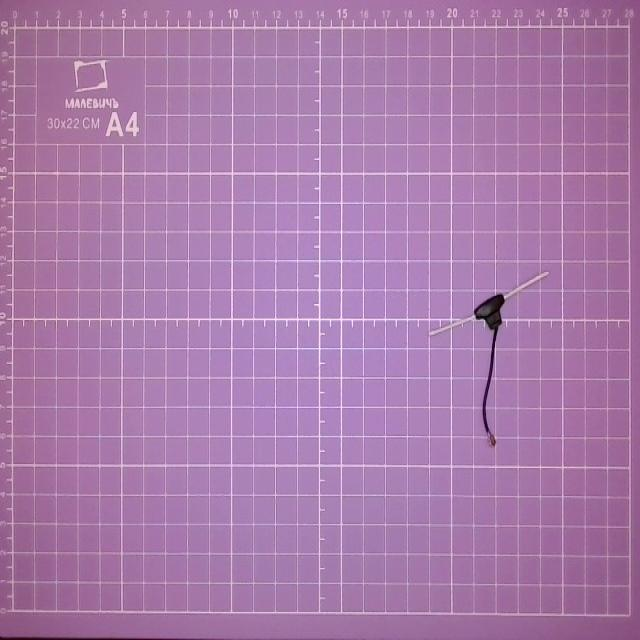antenna: (428, 266, 549, 450)
